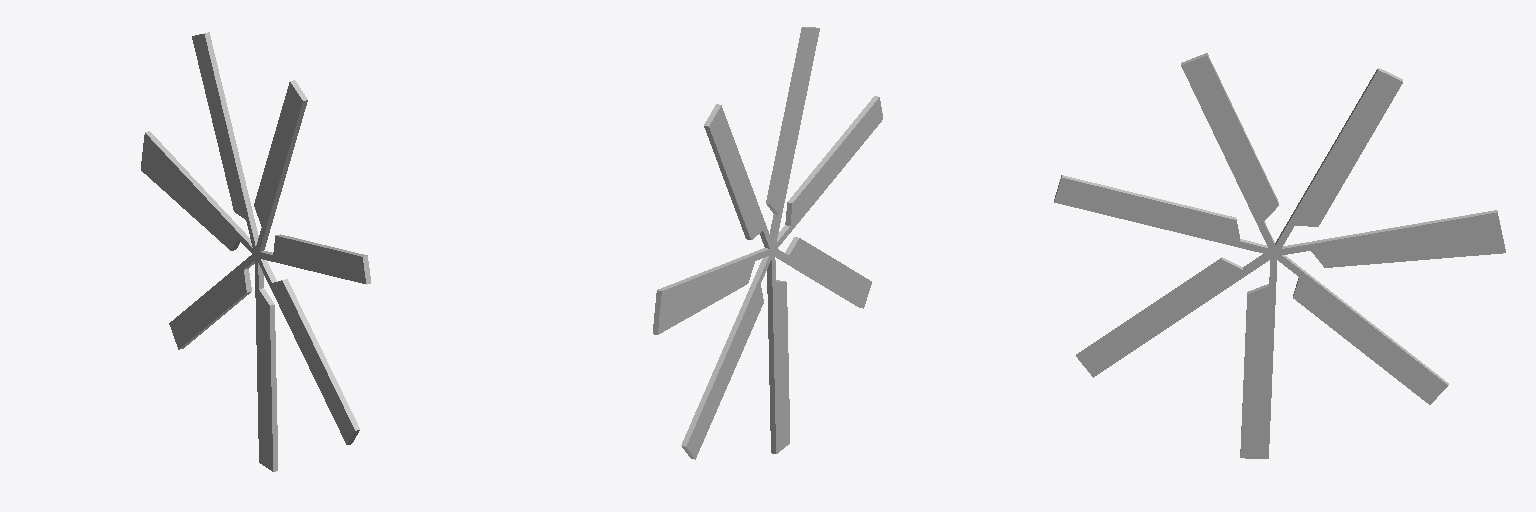
The model's file is windmill_blades.obj.
The picture shows the model from 3 angles: view 1: azimuth 30°, elevation 25°; view 2: azimuth 150°, elevation 25°; view 3: azimuth 270°, elevation 25°; orthographic projection.
Parts seen in each view (by area): view 1: Cube.002_Cube.003, Cube.003_Cube.004, Cube.006_Cube.007, Cube.007_Cube.008, Cube.004_Cube.005, Cube.005_Cube.006, Cube.001_Cube.002; view 2: Cube.002_Cube.003, Cube.004_Cube.005, Cube.001_Cube.002, Cube.007_Cube.008, Cube.005_Cube.006, Cube.003_Cube.004, Cube.006_Cube.007; view 3: Cube.002_Cube.003, Cube.005_Cube.006, Cube.006_Cube.007, Cube.001_Cube.002, Cube.003_Cube.004, Cube.004_Cube.005, Cube.007_Cube.008.
Boxes of the visible parts, box(x1,y1,x2,y2) form: Cube.002_Cube.003: box(141, 131, 255, 254); Cube.003_Cube.004: box(192, 32, 258, 249); Cube.006_Cube.007: box(256, 253, 359, 444); Cube.007_Cube.008: box(255, 259, 277, 471); Cube.004_Cube.005: box(254, 80, 307, 251); Cube.005_Cube.006: box(256, 234, 370, 284); Cube.001_Cube.002: box(169, 253, 256, 349); Cube.002_Cube.003: box(653, 248, 773, 334); Cube.004_Cube.005: box(766, 27, 819, 247); Cube.001_Cube.002: box(681, 249, 772, 459); Cube.007_Cube.008: box(767, 254, 789, 453); Cube.005_Cube.006: box(773, 96, 882, 251); Cube.003_Cube.004: box(704, 104, 772, 248); Cube.006_Cube.007: box(772, 237, 871, 308); Cube.002_Cube.003: box(1274, 210, 1505, 267); Cube.005_Cube.006: box(1054, 175, 1273, 255); Cube.006_Cube.007: box(1076, 251, 1274, 377); Cube.001_Cube.002: box(1273, 255, 1448, 404); Cube.003_Cube.004: box(1275, 68, 1402, 249); Cube.004_Cube.005: box(1181, 53, 1278, 249); Cube.007_Cube.008: box(1240, 258, 1276, 458).
Size of the model in its own units: 0.2726 by 20.37 by 20.63.